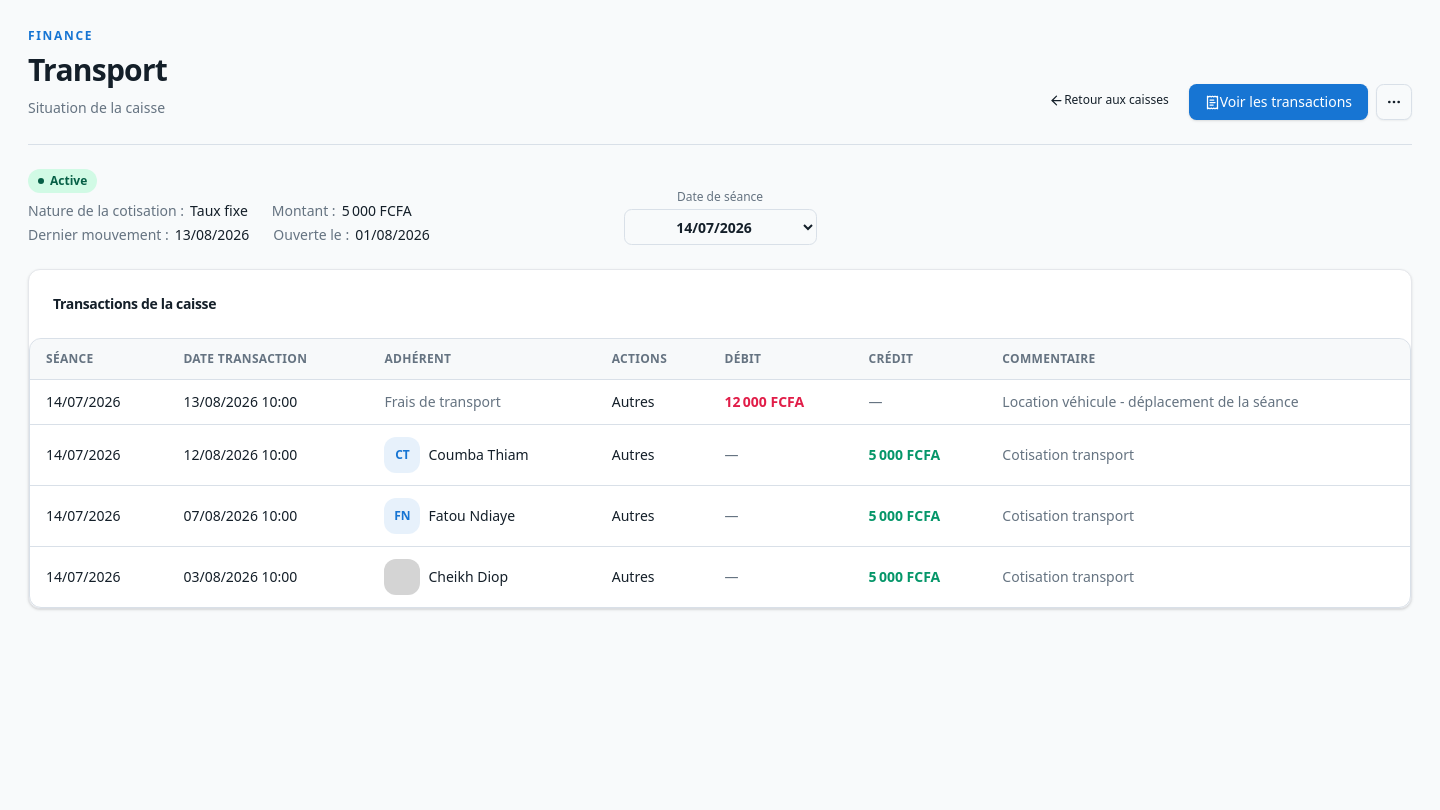
Test: Finance → Caisses → fiche caisse — menu « ⋯ » des actions administratives › en-tête : Retour + Voir les transactions visibles, Modifier / cycle de vie / Supprimer uniquement dans « ⋯ »
The width and height of the screenshot is (1440, 810).
Expected: the heading "Transport" is shown, [28,52,167,88]
Expected: the button "Retour aux caisses" is shown, [1037,84,1181,116]
Step 1. Click the button named "Actions de la caisse" → [1394, 102], box [1376,84,1412,120]
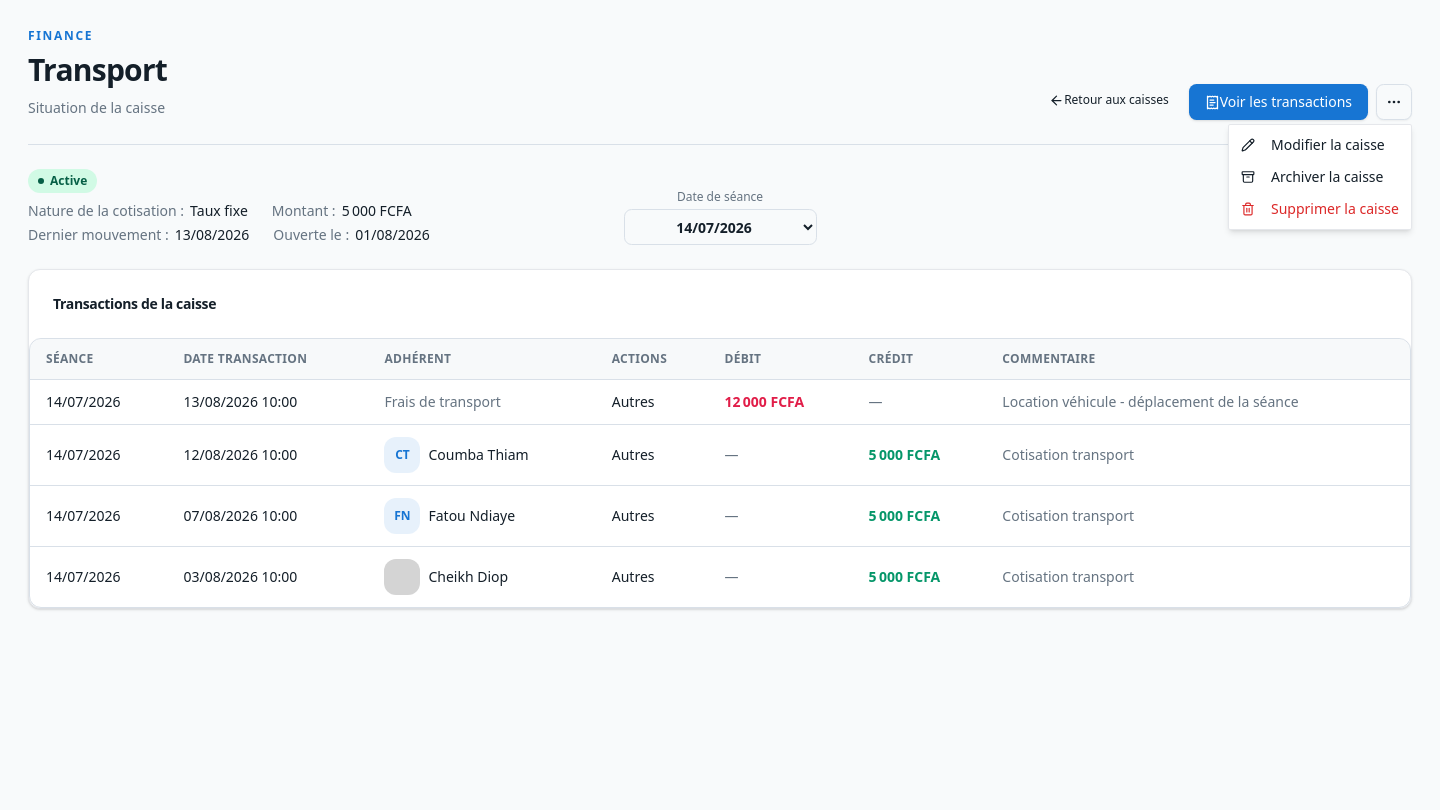
Expected: the menu items read "Modifier la caisse", "Archiver la caisse", "Supprimer la caisse", in this order, [1241,135,1385,154]; [1241,167,1384,186]; [1241,199,1399,218]
